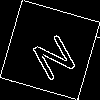N: (25, 25, 79, 82)
